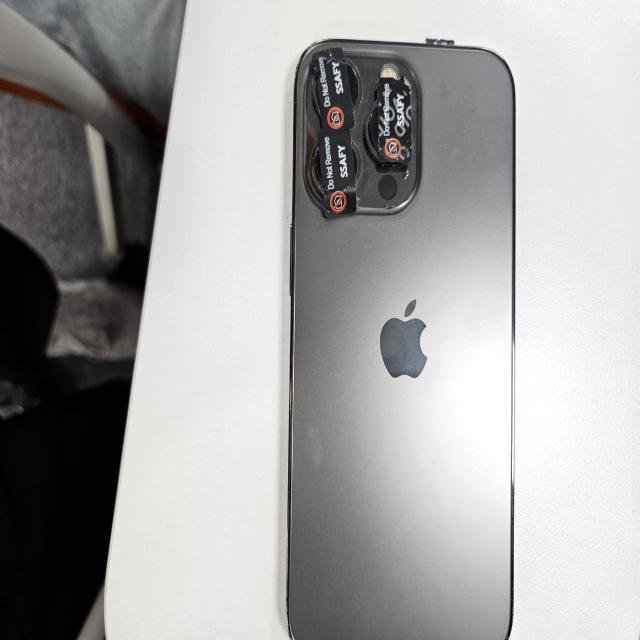phone: (291, 35, 516, 640)
removed_sticker: (378, 78, 412, 162)
sticker: (317, 134, 357, 216), (314, 53, 352, 129)
